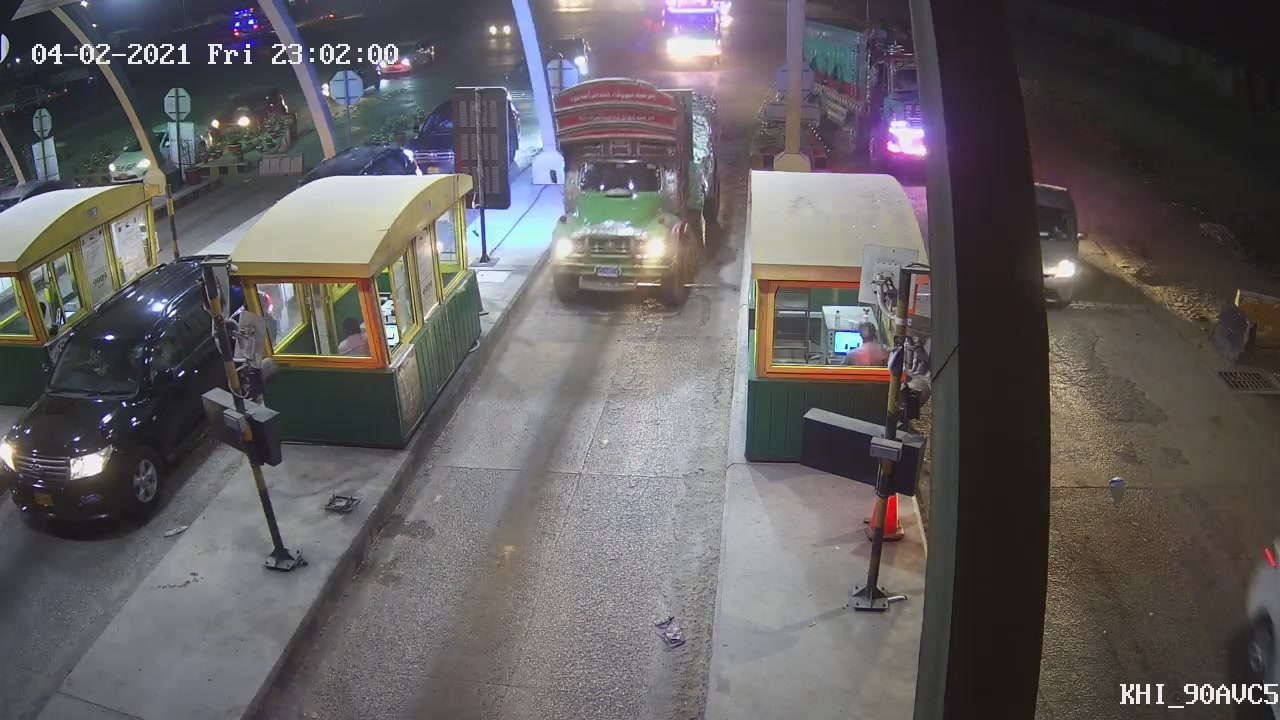F5: (546, 73, 717, 311)
